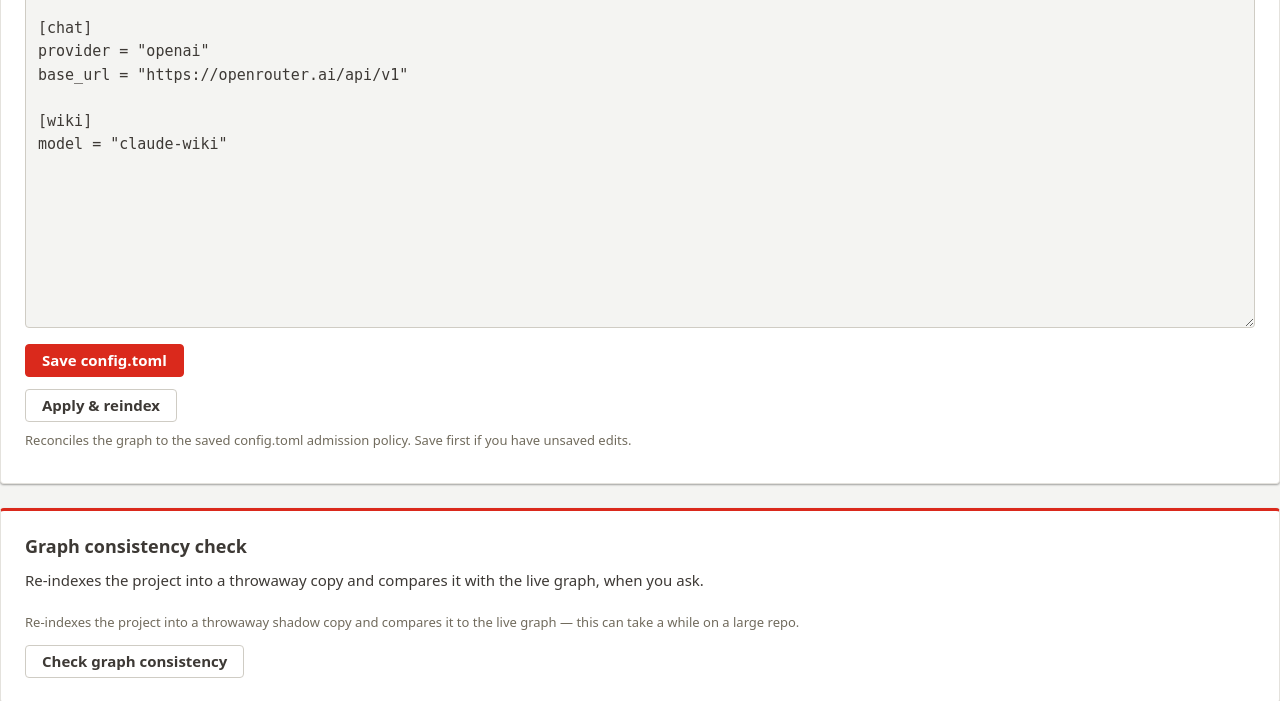
Test: ConfigView validate-then-write Save (FR-UI-12, NFR-SE-06) › surfaces a 422 validation fault honestly and never reports success
(page scrolled)
Click the button "Save config.toml" at point(104, 361), box left=25, top=344, right=184, bottom=378
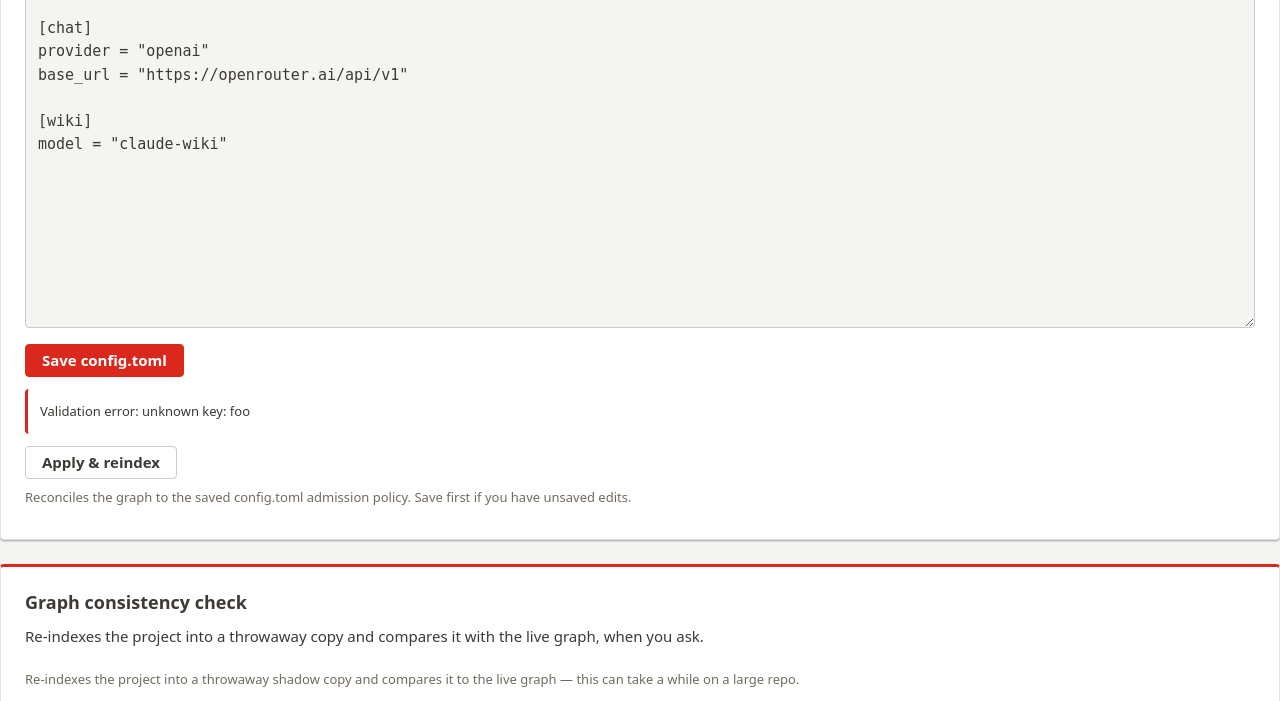
Check: the text "Validation error: unknown key: foo" is shown, box left=25, top=390, right=1255, bottom=434
